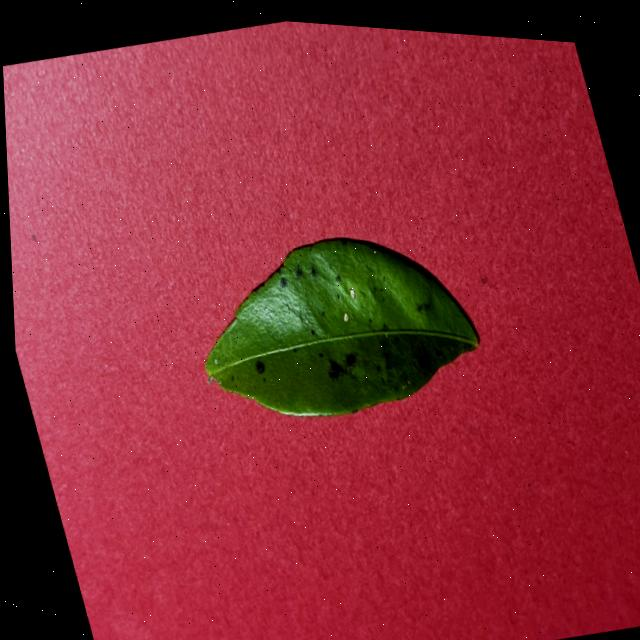sooty_mold: (205, 238, 476, 415)
